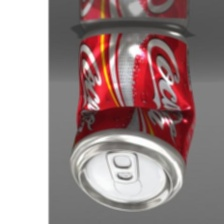can: (71, 26, 197, 214), (73, 0, 191, 34)
